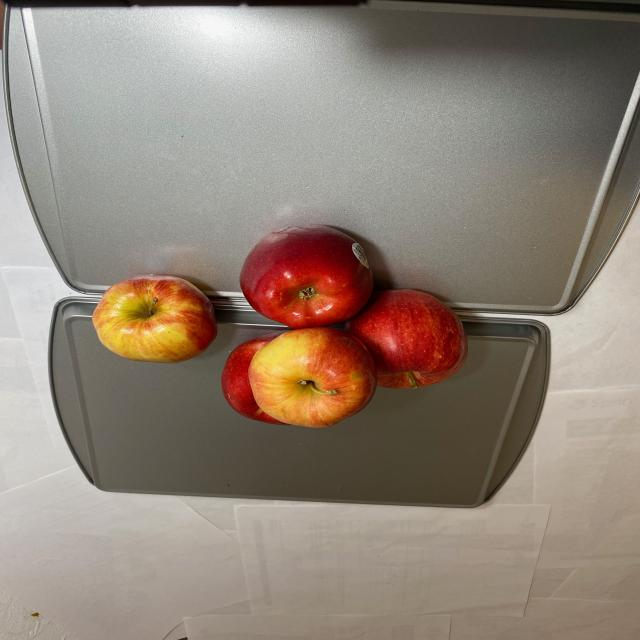Apple: (95, 226, 473, 427)
